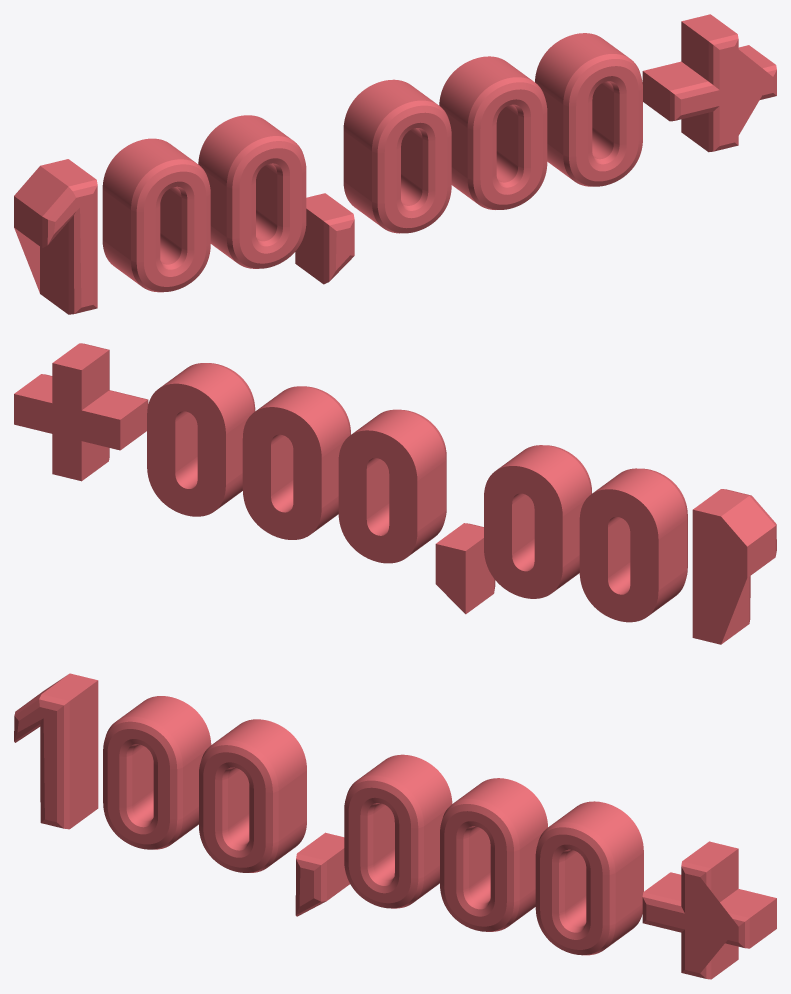
3 renders of one model, top to bottom at view 1: azimuth 30°, elevation 25°; view 2: azimuth 150°, elevation 25°; view 3: azimuth 330°, elevation 25°, orthographic.
Visible parts, largest first — view 1: Null, Rounding_3, Rounding_7, Rounding_4, Rounding_6, Rounding_8, Cap_1, Cap_1_6, Rounding_2, Cap_1_7, Cap_1_4, Cap_1_8 (+5 smaller); view 2: Null, Cap_2_6, Cap_2_8, Cap_2_3, Cap_2_7, Cap_2_4, Cap_2_2, Cap_2, Cap_2_5; view 3: Null, Rounding_3, Rounding_8, Rounding_4, Rounding_6, Rounding_7, Cap_1, Cap_1_7, Cap_1_3, Cap_1_8, Cap_1_6, Cap_1_4 (+4 smaller).
Boxes of the visible parts, box(x1,y1,x2,y2) form: Null: box(14, 14, 775, 314); Rounding_3: box(131, 159, 210, 292); Rounding_7: box(467, 77, 547, 209); Rounding_4: box(226, 136, 306, 268); Rounding_6: box(372, 100, 451, 233); Rounding_8: box(563, 54, 642, 186); Cap_1: box(681, 46, 773, 145); Cap_1_6: box(384, 112, 447, 228); Rounding_2: box(42, 179, 97, 314); Cap_1_7: box(480, 89, 542, 204); Cap_1_4: box(239, 148, 301, 263); Cap_1_8: box(576, 66, 638, 181); Null: box(14, 343, 775, 644); Cap_2_6: box(338, 430, 417, 563); Cap_2_8: box(147, 383, 225, 516); Cap_2_3: box(579, 489, 658, 622); Cap_2_7: box(242, 407, 321, 539); Cap_2_4: box(484, 466, 562, 598); Cap_2_2: box(692, 509, 747, 644); Cap_2: box(14, 363, 120, 481); Cap_2_5: box(435, 544, 465, 613); Null: box(18, 673, 776, 979); Rounding_3: box(103, 716, 182, 849); Rounding_8: box(535, 822, 615, 955); Rounding_4: box(199, 740, 278, 872); Rounding_6: box(344, 775, 423, 908); Rounding_7: box(440, 799, 519, 931); Cap_1: box(646, 873, 738, 973); Cap_1_7: box(444, 811, 506, 926); Cap_1_3: box(107, 729, 169, 844); Cap_1_8: box(540, 834, 602, 949); Cap_1_6: box(348, 787, 410, 903); Cap_1_4: box(203, 752, 265, 867).
Size of the model in its own units: 1247 by 262 by 97.47.
